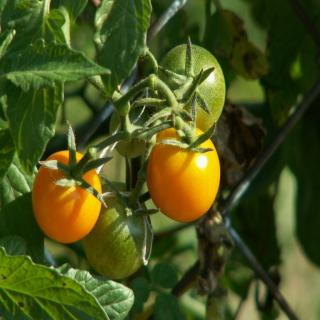tomato: (31, 148, 102, 244), (84, 180, 152, 280), (146, 132, 220, 220), (156, 42, 225, 132)
